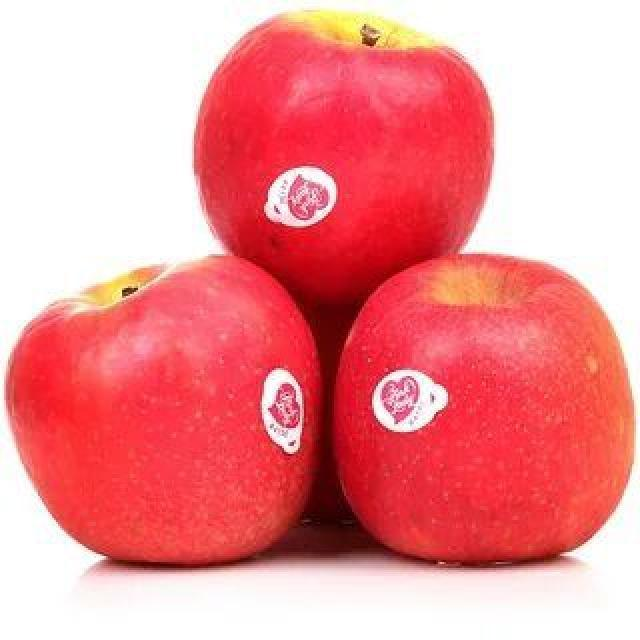Fresh Apple: (187, 23, 500, 302), (338, 260, 624, 545), (24, 275, 318, 552)
